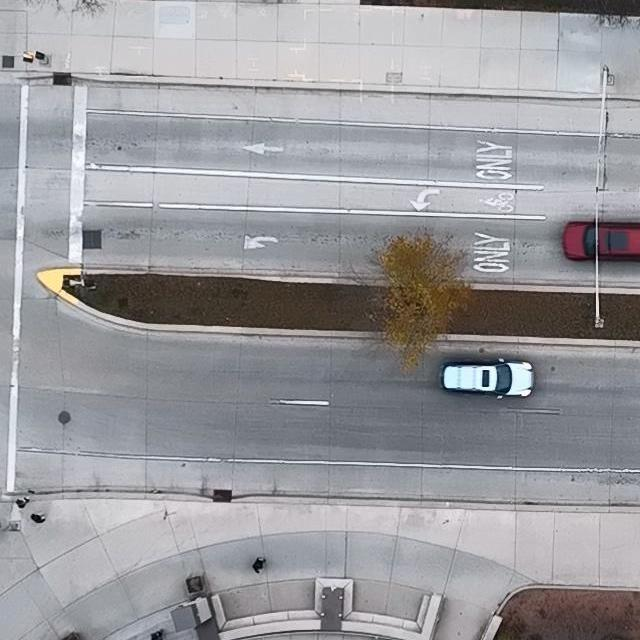car: (440, 356, 537, 400), (563, 219, 640, 260)
